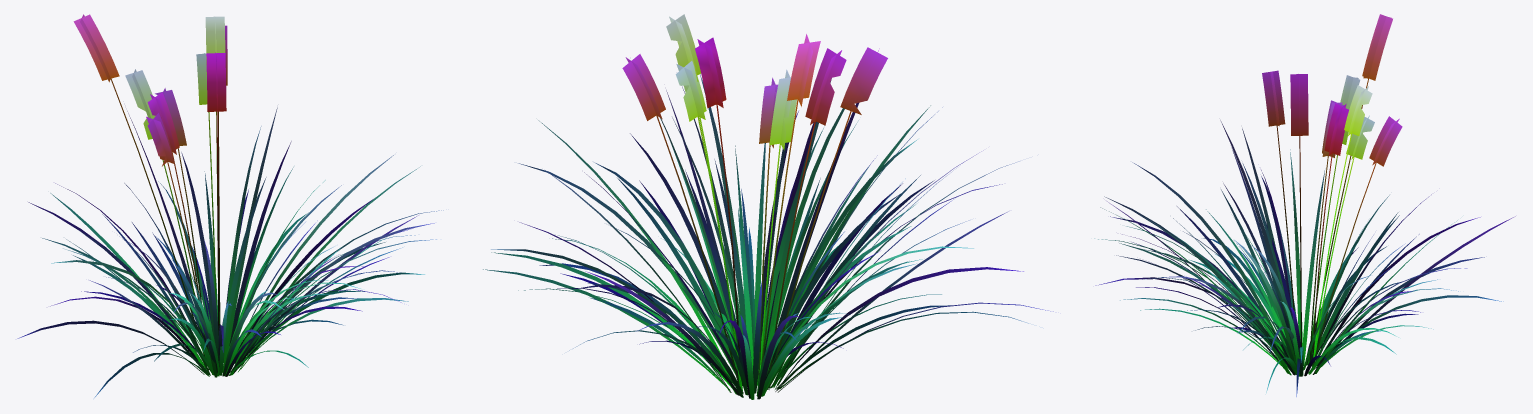
The model's file is Grass_Cogon_A_HD.fbx.
3 views of the same model, side by side, from view 1: azimuth 30°, elevation 25°; view 2: azimuth 150°, elevation 25°; view 3: azimuth 270°, elevation 25° (orthographic). The views are drawn at different scales.
Parts seen in each view (by area): view 1: Grass_Cogon_A_HD_LOD0; view 2: Grass_Cogon_A_HD_LOD0; view 3: Grass_Cogon_A_HD_LOD0.
Boxes of the visible parts, x1=… form: Grass_Cogon_A_HD_LOD0: x1=17, y1=14, x2=443, y2=397; Grass_Cogon_A_HD_LOD0: x1=483, y1=14, x2=1053, y2=399; Grass_Cogon_A_HD_LOD0: x1=1094, y1=14, x2=1515, y2=396.
Size of what is drawn, in the model's own units: 1.2 by 0.8929 by 1.1.
